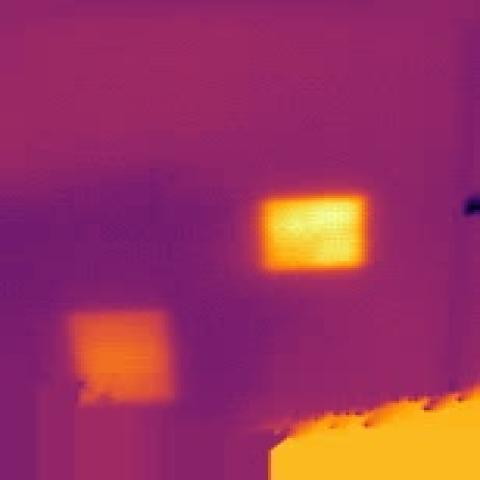fault: (262, 387, 480, 480), (58, 304, 185, 406), (257, 192, 367, 280)
